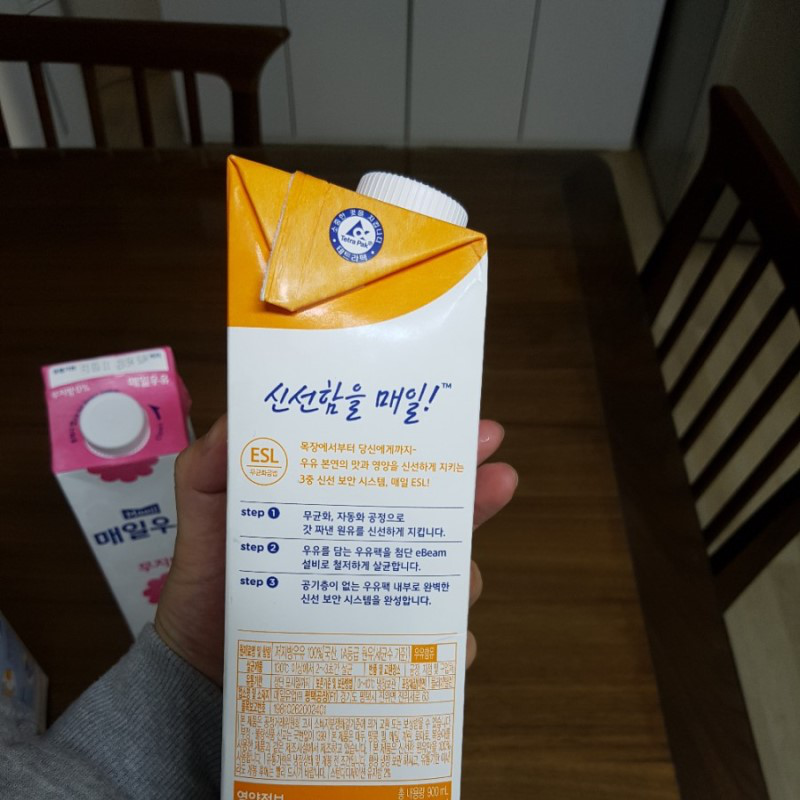milk: (215, 152, 470, 800), (36, 345, 196, 634)
